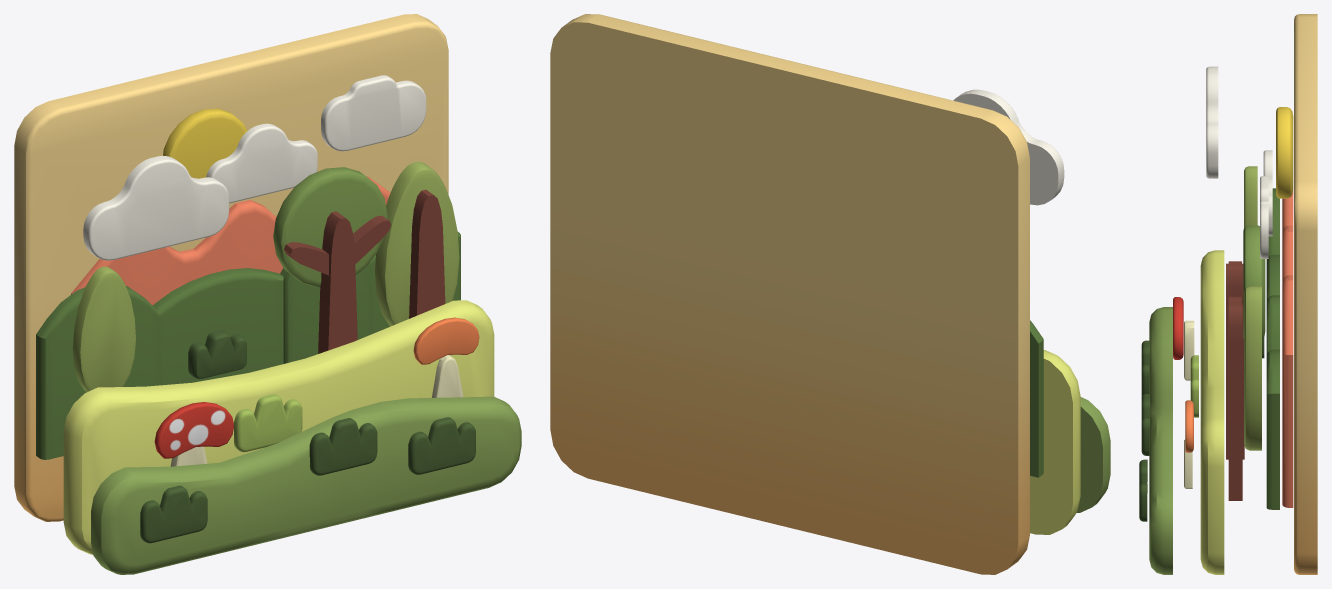
File: Map_level_3.fbx
3 views of the same model, side by side, from view 1: azimuth 30°, elevation 25°; view 2: azimuth 150°, elevation 25°; view 3: azimuth 270°, elevation 25° (orthographic). The views are drawn at different scales.
Parts seen in each view (by area): view 1: Cube, Cube.008, Cube.001, Cube.011, Cube.015, Cube.013, Cylinder, Cylinder.002, Cylinder.003, Cube.014, Cube.016, Cube.012 (+13 smaller); view 2: Cube, Cube.001, Cube.015, Cube.008, Cube.011; view 3: Cube, Cube.001, Cube.008, Cube.013, Cube.012, Cylinder.002, Cube.006, Cylinder.005, Cylinder, Cube.015, Cube.002, Cube.011 (+11 smaller).
Part boxes in pixels (x1,y1,x2,y2): Cube: [14, 14, 448, 521]; Cube.008: [91, 396, 521, 574]; Cube.001: [63, 300, 494, 554]; Cube.011: [36, 268, 283, 459]; Cube.015: [83, 155, 229, 260]; Cube.013: [71, 176, 390, 305]; Cylinder: [273, 167, 387, 286]; Cylinder.002: [375, 161, 459, 326]; Cylinder.003: [72, 266, 135, 391]; Cube.014: [321, 75, 426, 151]; Cube.016: [206, 123, 317, 203]; Cube.012: [280, 232, 460, 363]; Cube: [550, 14, 1029, 574]; Cube.001: [1030, 350, 1080, 534]; Cube.015: [953, 89, 1064, 205]; Cube.008: [1076, 397, 1110, 512]; Cube.011: [1030, 320, 1043, 477]; Cube: [1294, 14, 1317, 574]; Cube.001: [1200, 250, 1224, 574]; Cube.008: [1149, 307, 1172, 574]; Cube.013: [1282, 190, 1293, 507]; Cube.012: [1266, 295, 1279, 509]; Cylinder.002: [1244, 286, 1261, 450]; Cube.006: [1228, 305, 1242, 500]; Cylinder.005: [1276, 107, 1293, 198]; Cylinder: [1243, 225, 1265, 339]; Cube.015: [1206, 66, 1218, 178]; Cube.002: [1226, 263, 1244, 459]; Cube.011: [1266, 188, 1279, 300].
Size of the model in its own units: 8.75 by 8.14 by 3.38.
